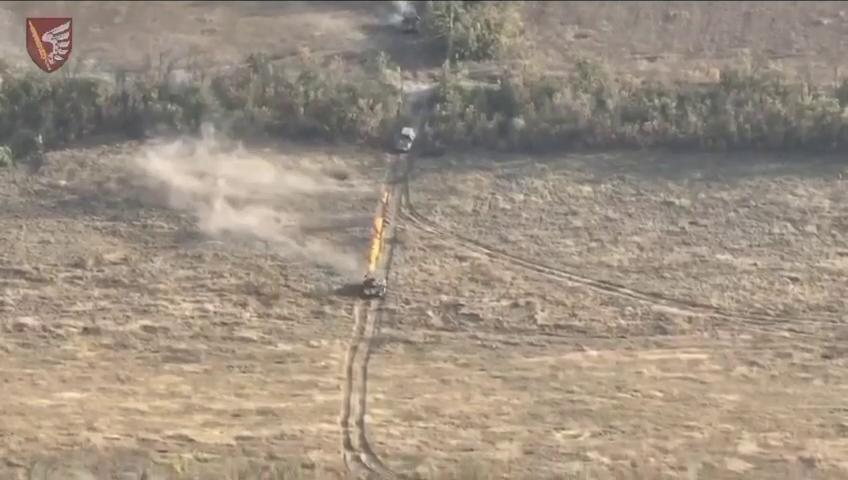tank: (361, 270, 389, 301), (397, 9, 422, 35), (394, 125, 415, 155)
